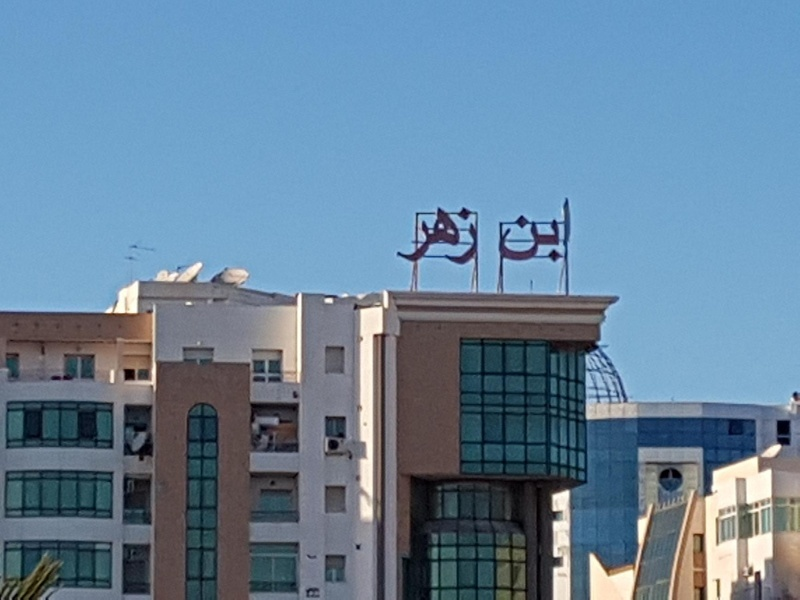text: (513, 197, 528, 264), (529, 197, 544, 264), (545, 197, 560, 264), (401, 205, 416, 267), (417, 205, 432, 267), (433, 205, 448, 267), (449, 205, 464, 267), (465, 205, 480, 267), (561, 197, 574, 264), (502, 197, 512, 264), (397, 205, 400, 267), (481, 205, 483, 267)
